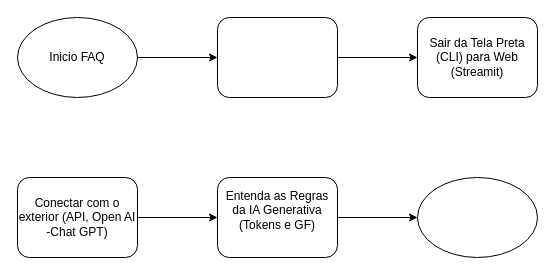
Image size: 555x275. Some labels were removed from this diagram. The box of each missing label's shape, as (x1, y1, x2, y2) in pixels:
Fim Projeto Chatbot SENAI: (416, 176, 538, 258)
Lógica Condicional: (216, 16, 338, 98)
